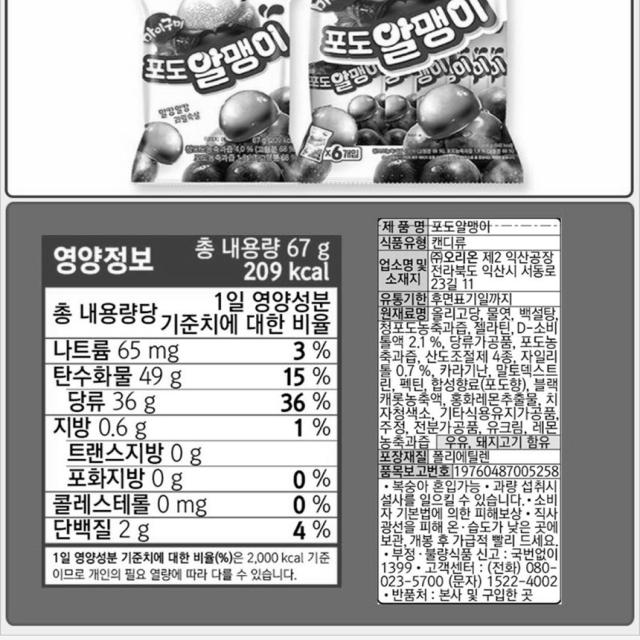Nutrition Label: (26, 221, 355, 548)
